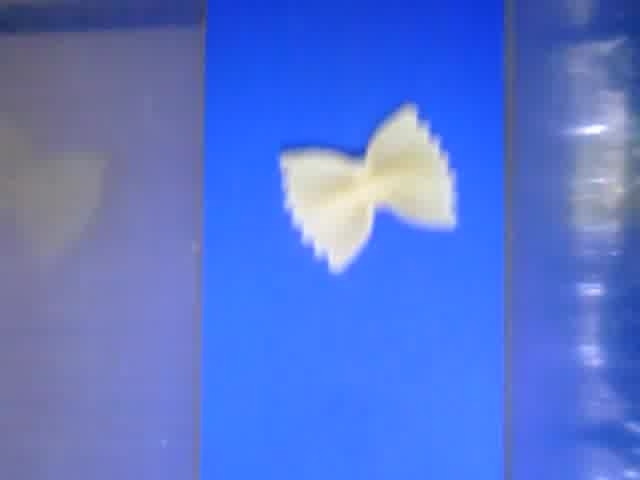farfalle: (280, 103, 459, 271)
